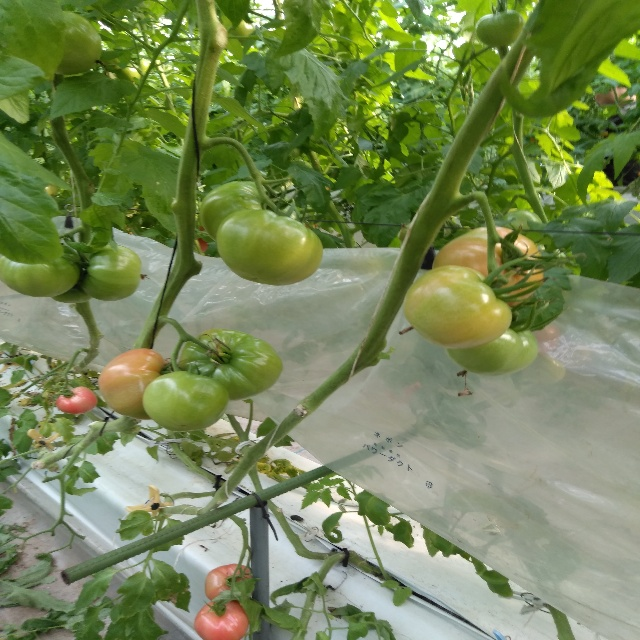b_green: (402, 265, 511, 348), (216, 209, 323, 286), (177, 328, 283, 401), (445, 307, 539, 376), (200, 181, 297, 242), (142, 371, 229, 432), (0, 243, 81, 298), (82, 243, 142, 302), (54, 10, 102, 74), (475, 10, 524, 47)
b_half_ripened: (433, 226, 543, 308), (98, 348, 178, 420), (193, 600, 249, 640), (204, 563, 252, 602), (57, 387, 97, 415)
